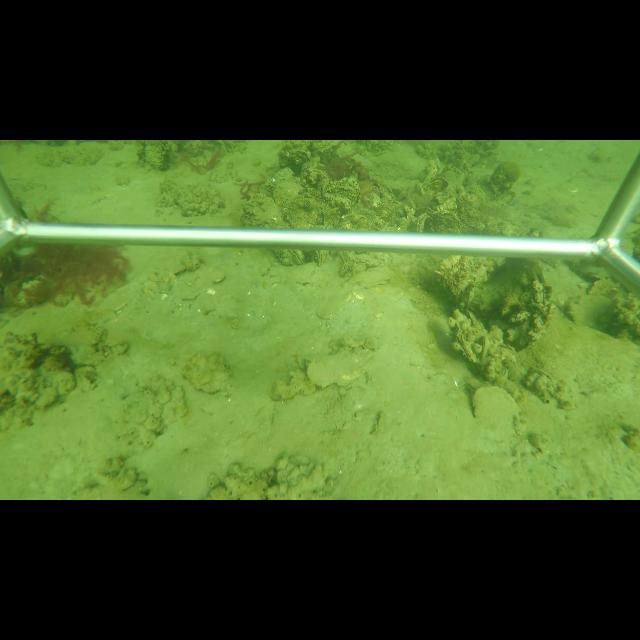Oyster-Closed: (470, 385, 524, 441), (305, 345, 372, 390), (181, 353, 235, 396), (346, 266, 397, 289), (454, 329, 479, 363), (415, 210, 429, 233), (313, 250, 326, 267), (340, 260, 350, 277)
